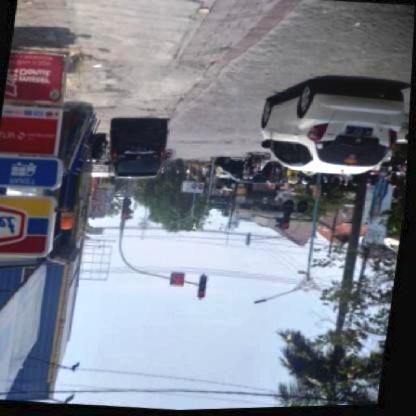Traffic Light -Red-: (283, 209, 295, 231), (124, 198, 134, 223), (200, 276, 210, 300)
